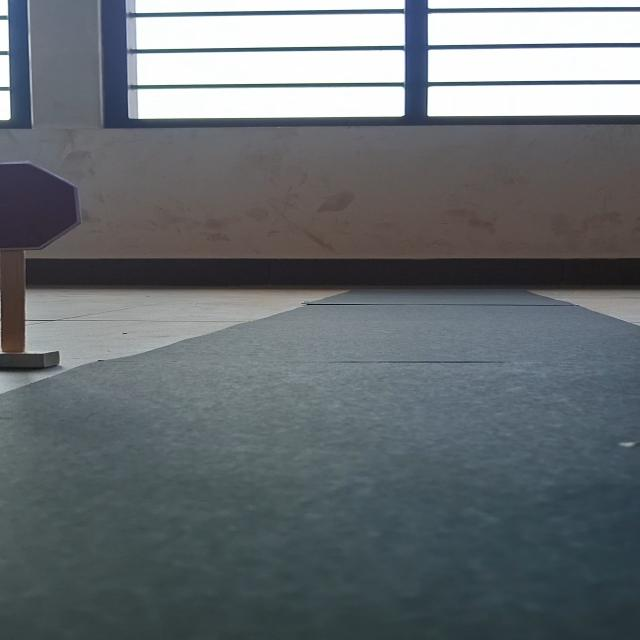Stop: (0, 162, 84, 250)
